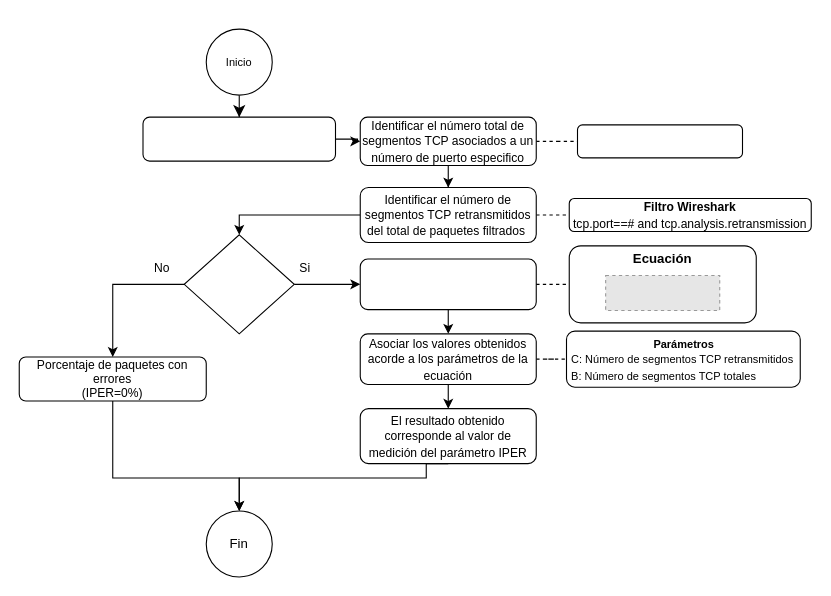
This 831x596 diagram has some shape labels left out. Grey dashed boxes stand in for pictures. Each missing label, with the centre of its shape:
"Captura del tráfico de la red mediante el software de Wireshark" goes at (239,138).
"Filtro Wireshark tcp.port==#" goes at (659,141).
"Segmentos TCP retransmitidos > 0" goes at (238,284).
"Utilizar la ecuación para cálcular el porcentaje de segmentos TCP con errores" goes at (447,284).
